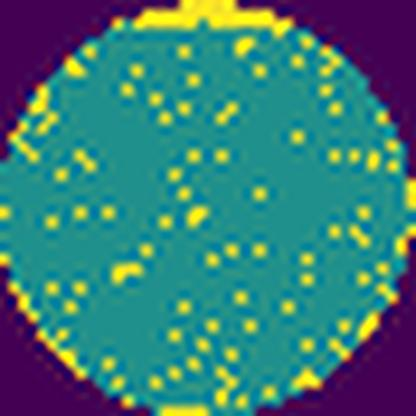Edge-Loc: (126, 0, 292, 34)
